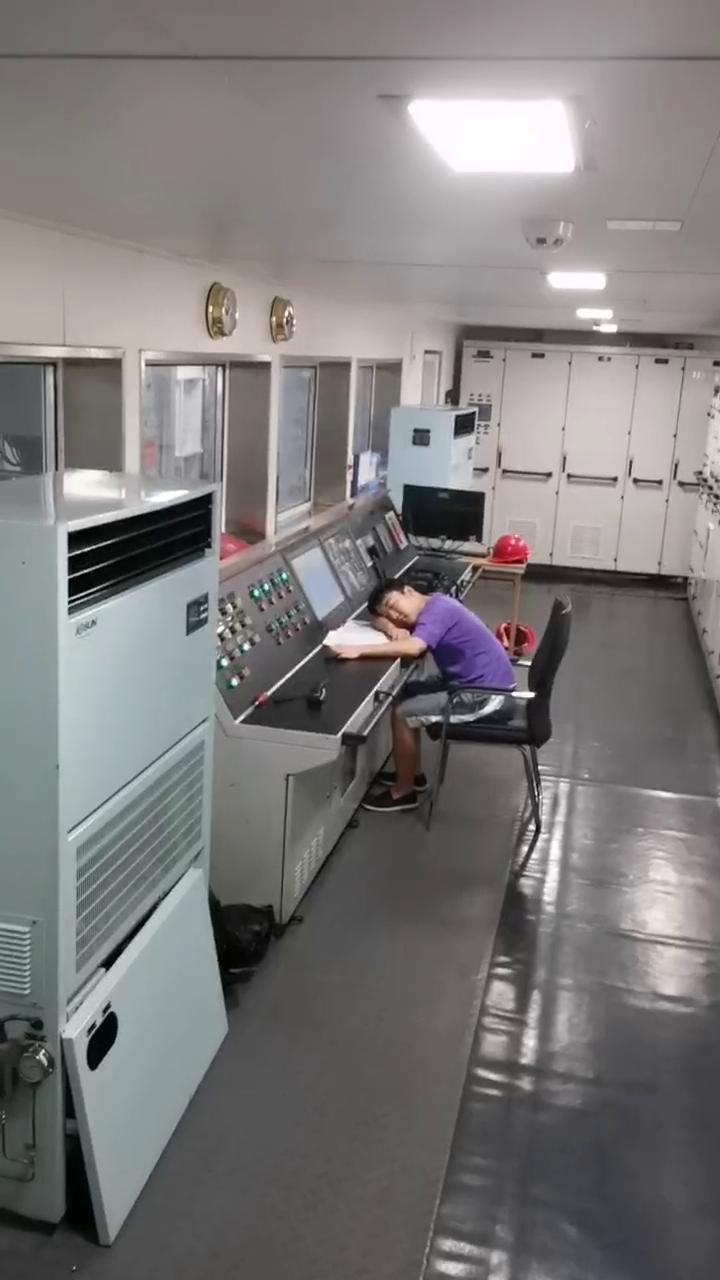sleep: (335, 576, 522, 733)
